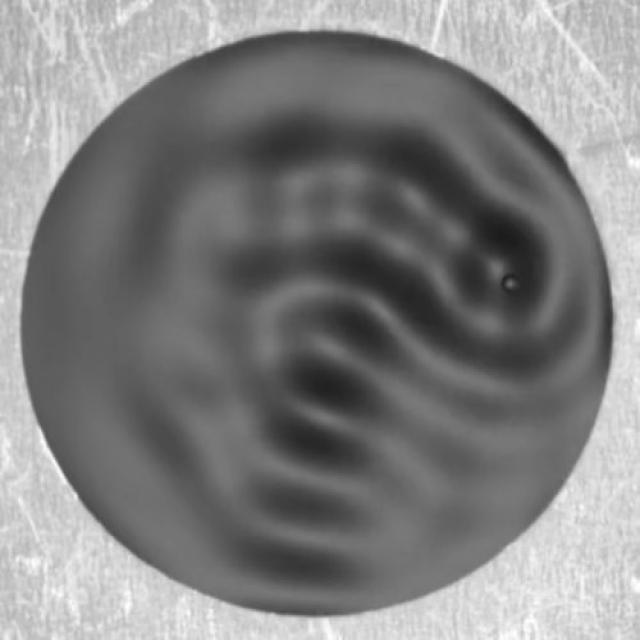droplet: (501, 274, 522, 298)
